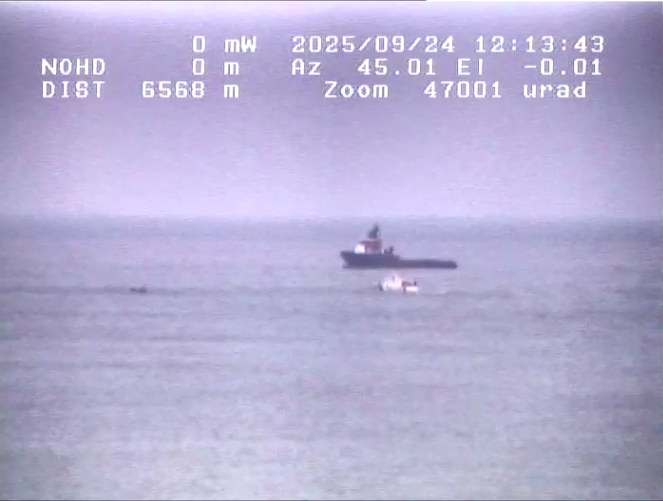OFFSHORE_SUPPLY_VESSEL: (333, 214, 487, 271)
PATROL_VESSEL: (368, 272, 424, 297)
